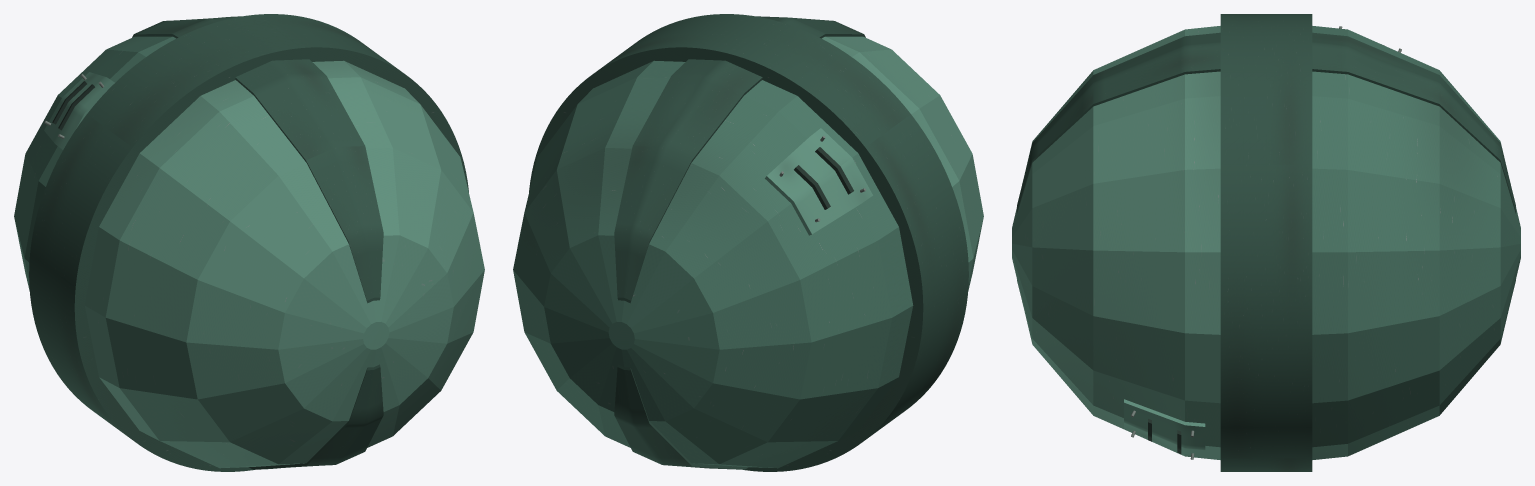
The picture shows the model from 3 angles, left to right: view 1: azimuth 30°, elevation 25°; view 2: azimuth 150°, elevation 25°; view 3: azimuth 270°, elevation 25°; orthographic projection.
Visible parts, largest first — view 1: Artemian Spiral forward metal shell, Artemian Spiral green transverse belt, Artemian Spiral green longitudinal strap 1, Artemian Spiral rear metal shell, Artemian Spiral green longitudinal strap 0, Artemian Spiral service cover 1, Artemian Spiral green longitudinal strap 3; view 2: Artemian Spiral rear metal shell, Artemian Spiral green transverse belt, Artemian Spiral green longitudinal strap 3, Artemian Spiral forward metal shell, Artemian Spiral service cover 1, Artemian Spiral green longitudinal strap 2, Artemian Spiral green longitudinal strap 1; view 3: Artemian Spiral rear metal shell, Artemian Spiral forward metal shell, Artemian Spiral green transverse belt, Artemian Spiral green longitudinal strap 1, Artemian Spiral green longitudinal strap 3, Artemian Spiral service cover 0.
Part boxes in pixels (x1=…): Artemian Spiral forward metal shell: x1=84, y1=60, x2=484, y2=468; Artemian Spiral green transverse belt: x1=29, y1=14, x2=468, y2=471; Artemian Spiral green longitudinal strap 1: x1=235, y1=59, x2=383, y2=303; Artemian Spiral rear metal shell: x1=14, y1=36, x2=175, y2=290; Artemian Spiral green longitudinal strap 0: x1=249, y1=364, x2=383, y2=469; Artemian Spiral service cover 1: x1=44, y1=72, x2=114, y2=149; Artemian Spiral green longitudinal strap 3: x1=132, y1=16, x2=241, y2=38; Artemian Spiral rear metal shell: x1=513, y1=60, x2=913, y2=468; Artemian Spiral green transverse belt: x1=529, y1=14, x2=968, y2=471; Artemian Spiral green longitudinal strap 3: x1=614, y1=59, x2=762, y2=303; Artemian Spiral forward metal shell: x1=822, y1=36, x2=983, y2=290; Artemian Spiral service cover 1: x1=765, y1=128, x2=872, y2=235; Artemian Spiral green longitudinal strap 2: x1=614, y1=364, x2=748, y2=469; Artemian Spiral green longitudinal strap 1: x1=756, y1=16, x2=865, y2=38; Artemian Spiral rear metal shell: x1=1312, y1=26, x2=1520, y2=459; Artemian Spiral forward metal shell: x1=1012, y1=26, x2=1220, y2=459; Artemian Spiral green transverse belt: x1=1220, y1=14, x2=1312, y2=471; Artemian Spiral green longitudinal strap 1: x1=1017, y1=32, x2=1220, y2=213; Artemian Spiral green longitudinal strap 3: x1=1312, y1=32, x2=1515, y2=213; Artemian Spiral service cover 0: x1=1124, y1=399, x2=1205, y2=456.
Size of the model in its own units: 0.9 by 0.9 by 1.
Materials: 5 (3 with a texture image).
